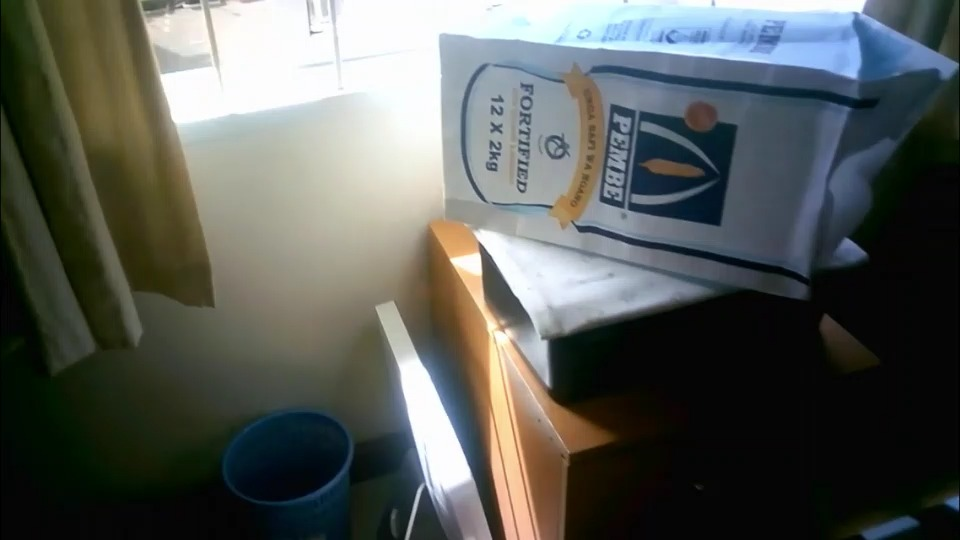wheat_flour_blue_label: (440, 7, 953, 292)
